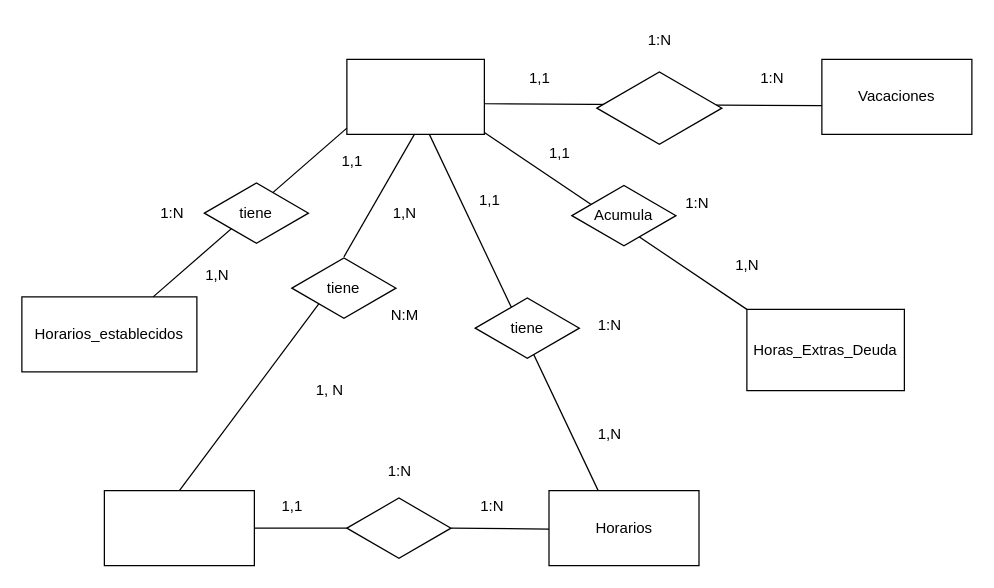
The diagram is 994 pixels wide and 588 high, and some of its shapes have lost their labels. Here are the shapes that lost their labels. From the top down, the centre of each, then its label:
At [415,96]: "Empleados".
At [659,107]: "Solicita".
At [178,527]: "Centros_Trabajo".
At [398,527]: "pertenece".
